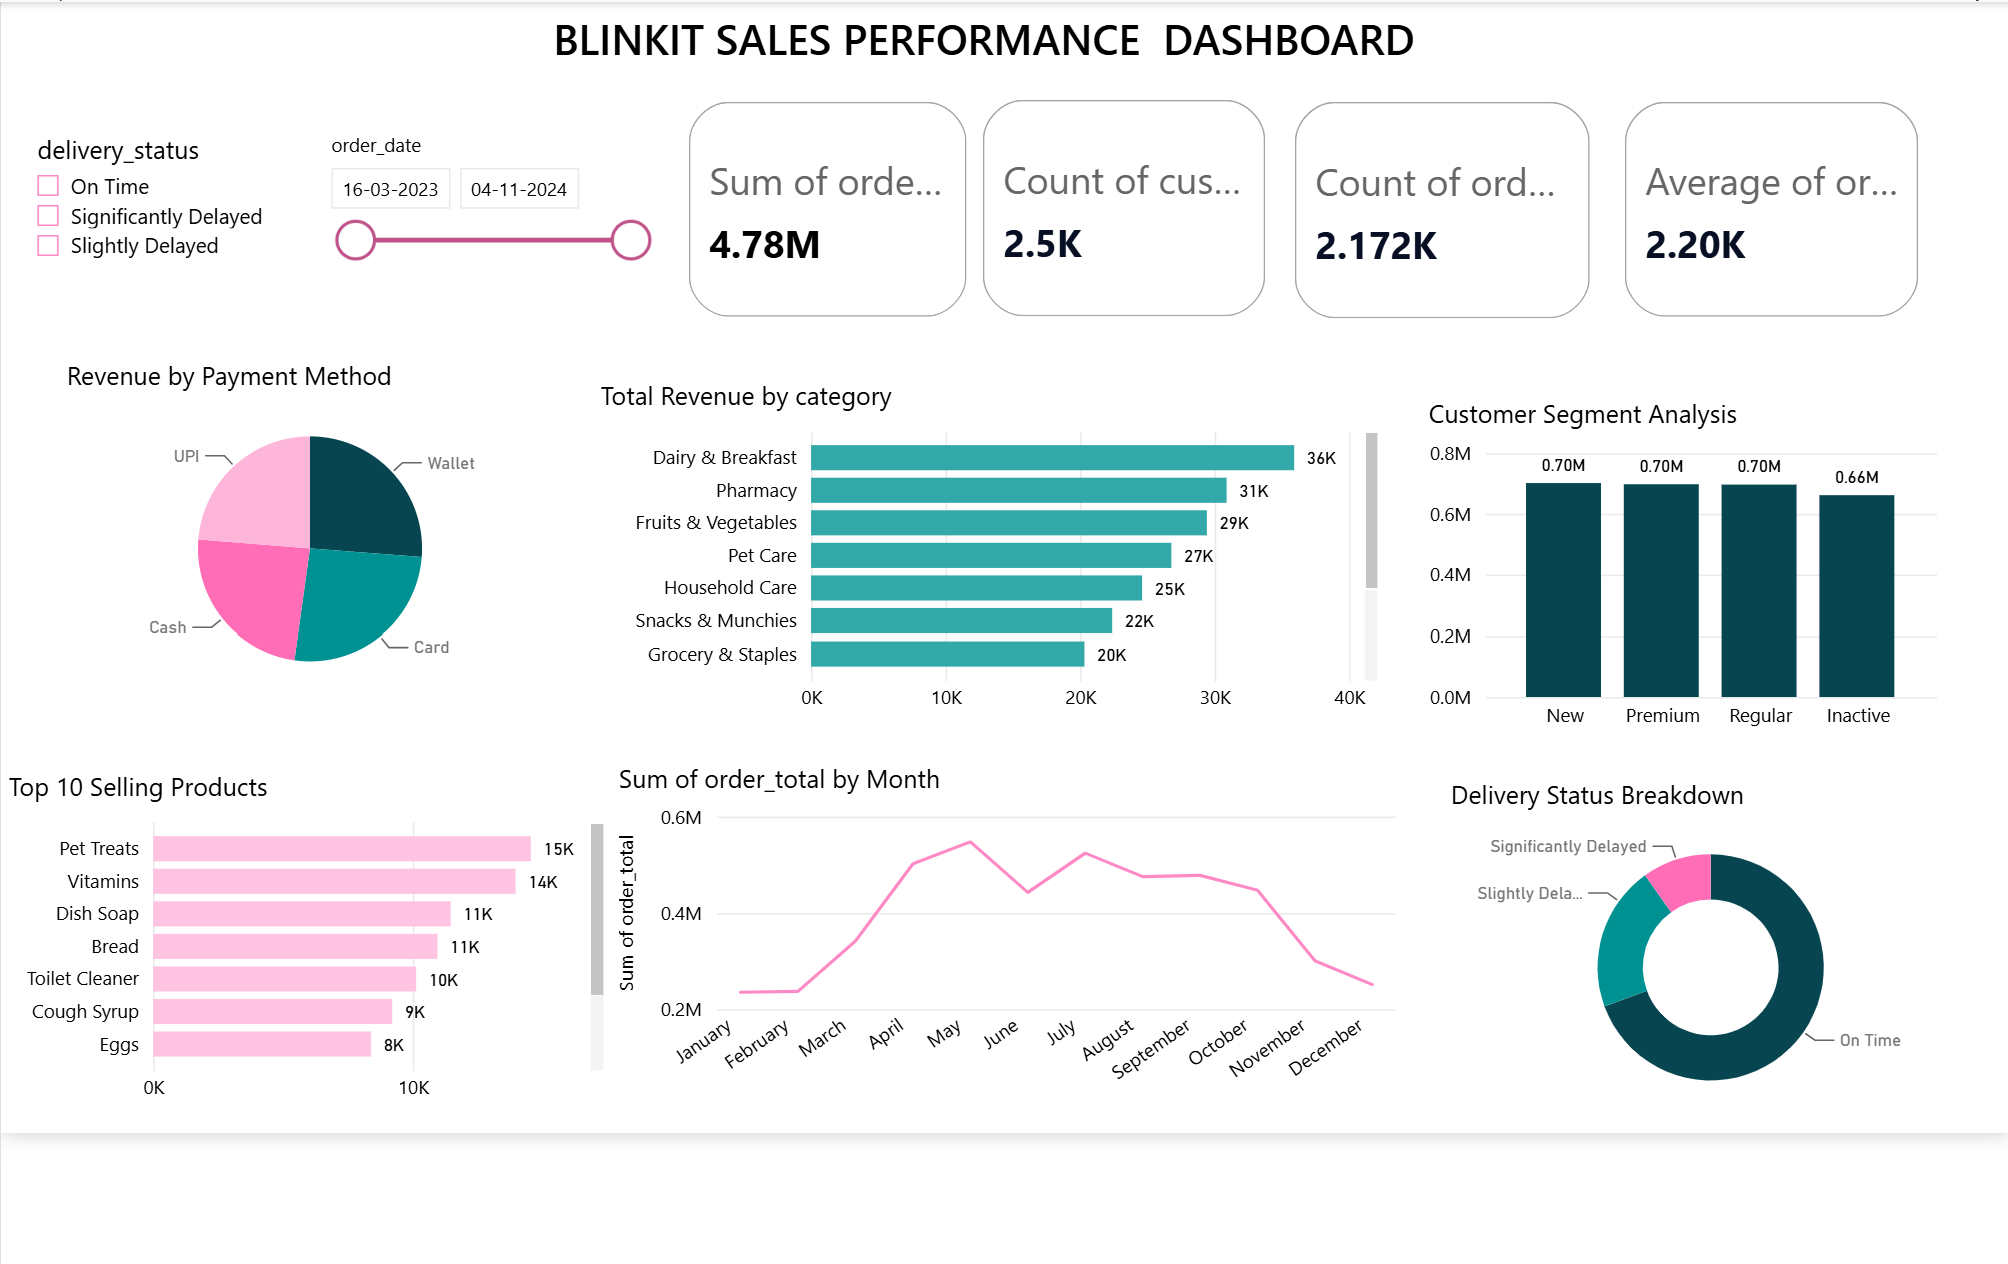

This screenshot's page, from the dashboard's own definition file:
{"tool":"powerbi","page":{"name":"Page 1","canvas":[1280,720],"ordinal":0},"visuals":[{"type":"textbox","box":[10,0,1240,58.8],"z":0},{"type":"cardVisual","fields":{"Data":["Sum(blinkit_orders.order_total)"]},"box":[433.8,58.8,187.5,147.5],"z":1},{"type":"cardVisual","fields":{"Data":["Count(blinkit_orders.order_id)"]},"box":[820,58.8,198.8,148.8],"z":2},{"type":"cardVisual","fields":{"Data":["Count(blinkit_customers.customer_id)"]},"box":[621.2,57.5,190,148.8],"z":3},{"type":"cardVisual","fields":{"Data":["Avg(blinkit_orders.order_total)"]},"box":[1030,58.8,197.5,147.5],"z":4},{"type":"lineChart","fields":{"Y":["Sum(blinkit_orders.order_total)"],"Category":["blinkit_orders.order_date.Variation.Date Hierarchy.Month"]},"box":[388.8,483.8,505,226.2],"z":5},{"type":"clusteredBarChart","fields":{"Category":["blinkit_products.category"],"Y":["blinkit_order_items.Total Revenue"]},"box":[377.5,240,505,221.2],"z":6},{"type":"pieChart","title":"Revenue by Payment Method","fields":{"Category":["blinkit_orders.payment_method"],"Y":["Sum(blinkit_orders.order_total)"]},"box":[37.5,227.5,320,221.2],"z":7},{"type":"clusteredBarChart","title":"Top 10 Selling Products","fields":{"Category":["blinkit_products.product_name"],"Y":["blinkit_order_items.Total Revenue"]},"box":[0,488.8,388.8,221.2],"z":8},{"type":"donutChart","title":"Delivery Status Breakdown","fields":{"Category":["blinkit_delivery_performance.delivery_status"],"Y":["CountNonNull(blinkit_delivery_performance.order_id)"]},"box":[918.8,493.8,341.2,221.2],"z":9},{"type":"columnChart","title":"Customer Segment Analysis","fields":{"Category":["blinkit_customers.customer_segment"],"Y":["Sum(blinkit_customers.avg_order_value)"]},"box":[905,251.2,333.8,221.2],"z":10},{"type":"slicer","fields":{"Values":["blinkit_delivery_performance.delivery_status"]},"box":[10,77.5,186.2,150],"z":13},{"type":"slicer","fields":{"Values":["blinkit_orders.order_date"]},"box":[197.5,77.5,225,111.2],"z":14}]}

Visuals, with their boxes on the page's 1280x720 design canvas (x1, y1, x2, y2). These are canvas units, not pixel positions in the 2008x1264 screenshot, which may show the page scaled, cropped or inside an application window:
textbox: detection(10, 0, 1250, 59)
cardVisual - Sum(blinkit_orders.order_total): detection(434, 59, 621, 206)
cardVisual - Count(blinkit_orders.order_id): detection(820, 59, 1019, 208)
cardVisual - Count(blinkit_customers.customer_id): detection(621, 58, 811, 206)
cardVisual - Avg(blinkit_orders.order_total): detection(1030, 59, 1228, 206)
lineChart - Sum(blinkit_orders.order_total) x blinkit_orders.order_date.Variation.Date Hierarchy.Month: detection(389, 484, 894, 710)
clusteredBarChart - blinkit_products.category x blinkit_order_items.Total Revenue: detection(378, 240, 882, 461)
"Revenue by Payment Method" pieChart: detection(38, 228, 358, 449)
"Top 10 Selling Products" clusteredBarChart: detection(0, 489, 389, 710)
"Delivery Status Breakdown" donutChart: detection(919, 494, 1260, 715)
"Customer Segment Analysis" columnChart: detection(905, 251, 1239, 472)
slicer - blinkit_delivery_performance.delivery_status: detection(10, 78, 196, 228)
slicer - blinkit_orders.order_date: detection(198, 78, 422, 189)
